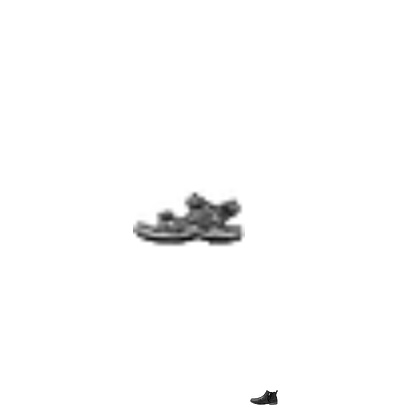Ankle_boot: (250, 383, 278, 411)
Sandal: (133, 161, 245, 273)
